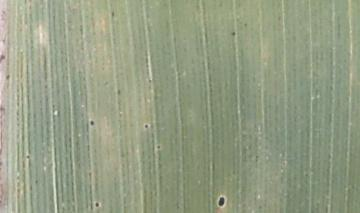tarspot: (217, 196, 226, 207), (115, 88, 123, 98), (86, 121, 97, 127), (92, 201, 101, 208), (109, 10, 116, 19), (5, 72, 12, 80), (25, 154, 32, 161), (1, 53, 6, 62), (33, 179, 40, 185), (1, 104, 5, 113), (143, 122, 147, 130), (231, 31, 236, 37), (157, 145, 162, 150)
